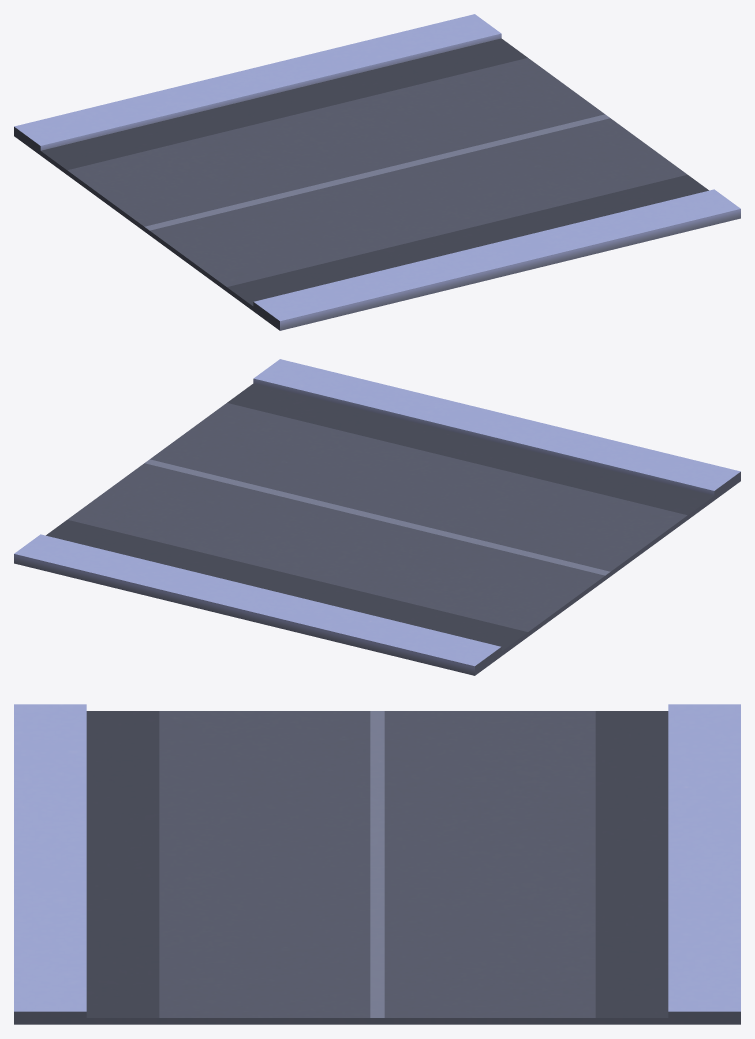
File: road-straight.glb
The picture shows the model from 3 angles, top to bottom: view 1: azimuth 30°, elevation 25°; view 2: azimuth 150°, elevation 25°; view 3: azimuth 270°, elevation 25°; orthographic projection. The views are drawn at different scales.
Parts seen in each view (by area): view 1: road-straight; view 2: road-straight; view 3: road-straight.
Boxes of the visible parts, bbox=[...] form: road-straight: bbox=[14, 14, 740, 330]; road-straight: bbox=[14, 359, 740, 675]; road-straight: bbox=[14, 704, 740, 1024].
Bounding box in the file's own units: 1 × 0.02 × 1.
Materials: 1 (1 with a texture image).
